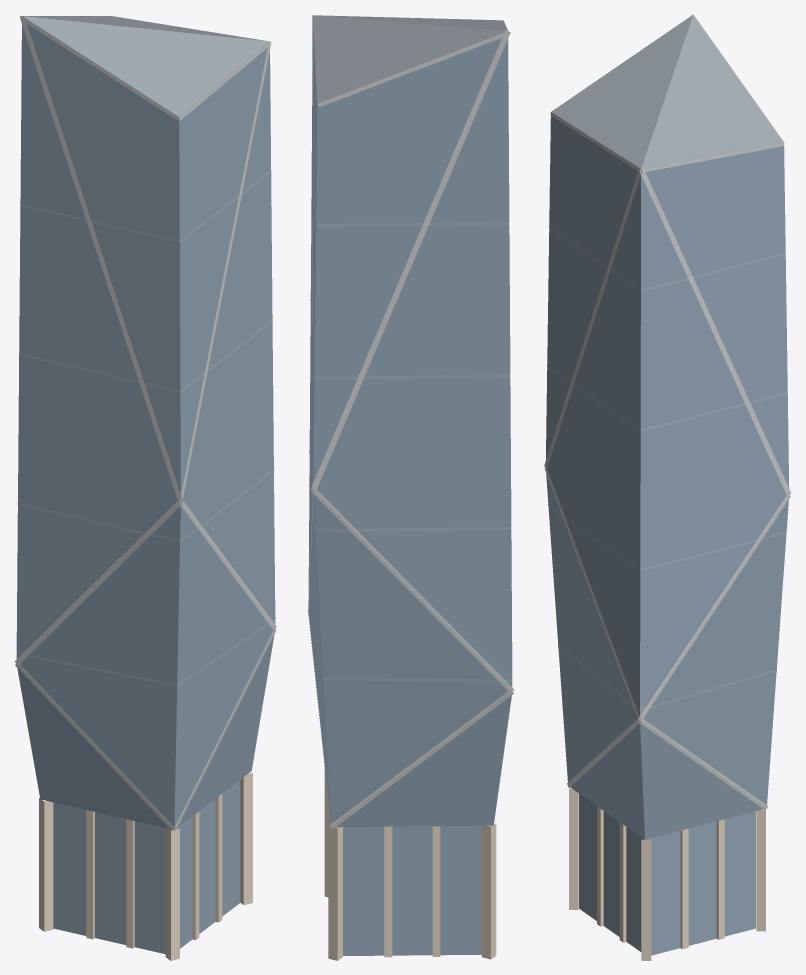
Rendered from sea-f5-tower.glb.
The picture shows the model from 3 angles, left to right: view 1: azimuth 30°, elevation 25°; view 2: azimuth 150°, elevation 25°; view 3: azimuth 270°, elevation 25°; orthographic projection. The views are drawn at different scales.
Visible parts, largest first — view 1: F5 Tower; view 2: F5 Tower; view 3: F5 Tower.
Part boxes in pixels (box(x1,y1,x2,y2)): F5 Tower: box(14, 16, 276, 960); F5 Tower: box(308, 15, 514, 960); F5 Tower: box(544, 14, 791, 960).
Bounding box in the file's own units: 56.18 × 211 × 55.54.
